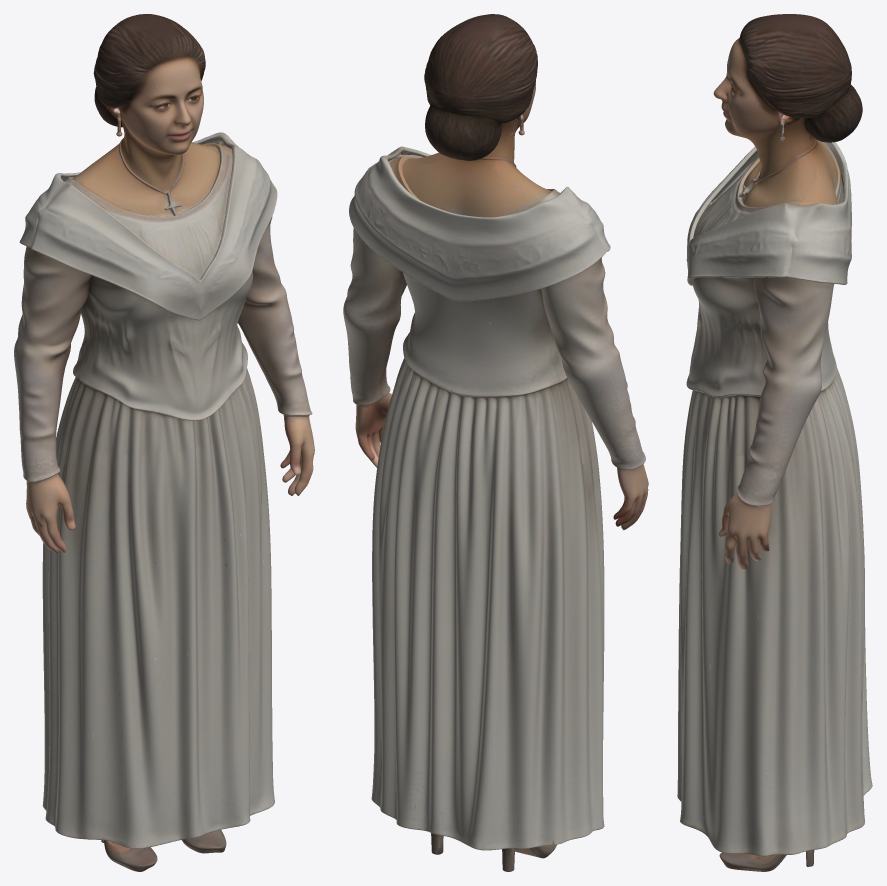
File: nicolasa.glb
3 views of the same model, side by side, from view 1: azimuth 30°, elevation 25°; view 2: azimuth 150°, elevation 25°; view 3: azimuth 270°, elevation 25° (orthographic).
Size of the model in its own units: 0.4295 by 1.19 by 0.2535.
1 material, 1 textured.
